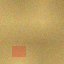vehicle: (11, 45, 25, 56)
